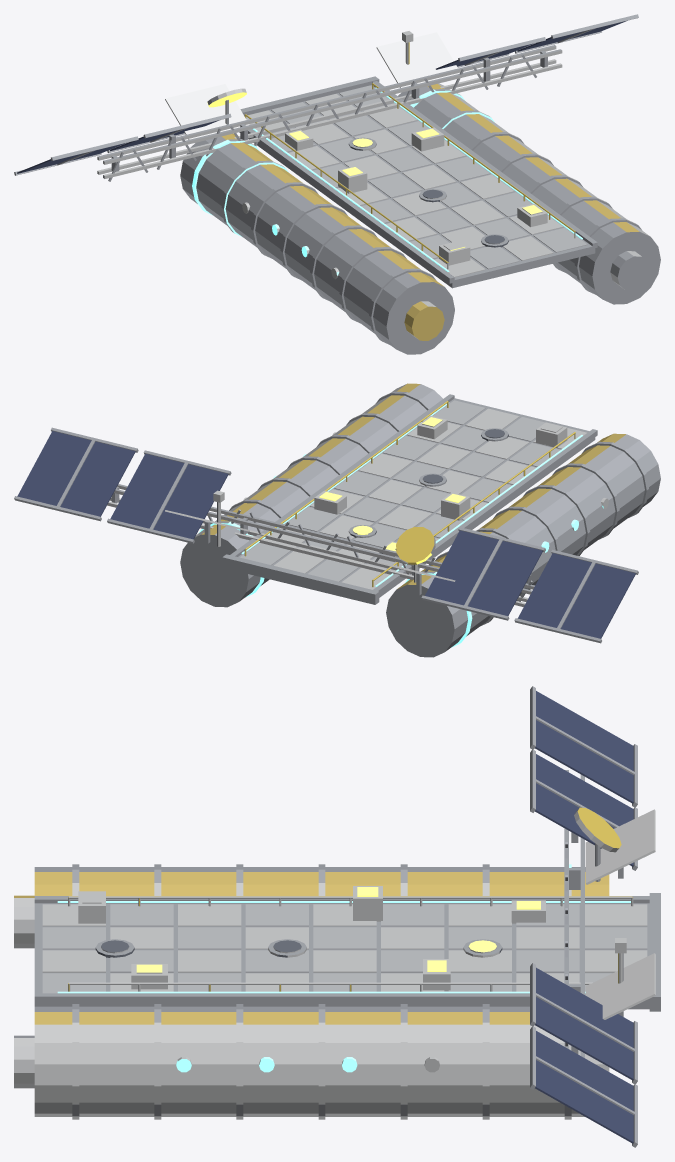
File: iss_platform.glb
3 views of the same model, one above another, from view 1: azimuth 30°, elevation 25°; view 2: azimuth 150°, elevation 25°; view 3: azimuth 270°, elevation 25° (orthographic). The views are drawn at different scales.
Parts seen in each view (by area): view 1: ISSPlatform; view 2: ISSPlatform; view 3: ISSPlatform.
Boxes of the visible parts, x1,y1,x2,y2 form: ISSPlatform: [14, 14, 660, 354]; ISSPlatform: [14, 383, 660, 657]; ISSPlatform: [14, 686, 660, 1147].
Size of the model in its own units: 41 by 8.12 by 28.15.
